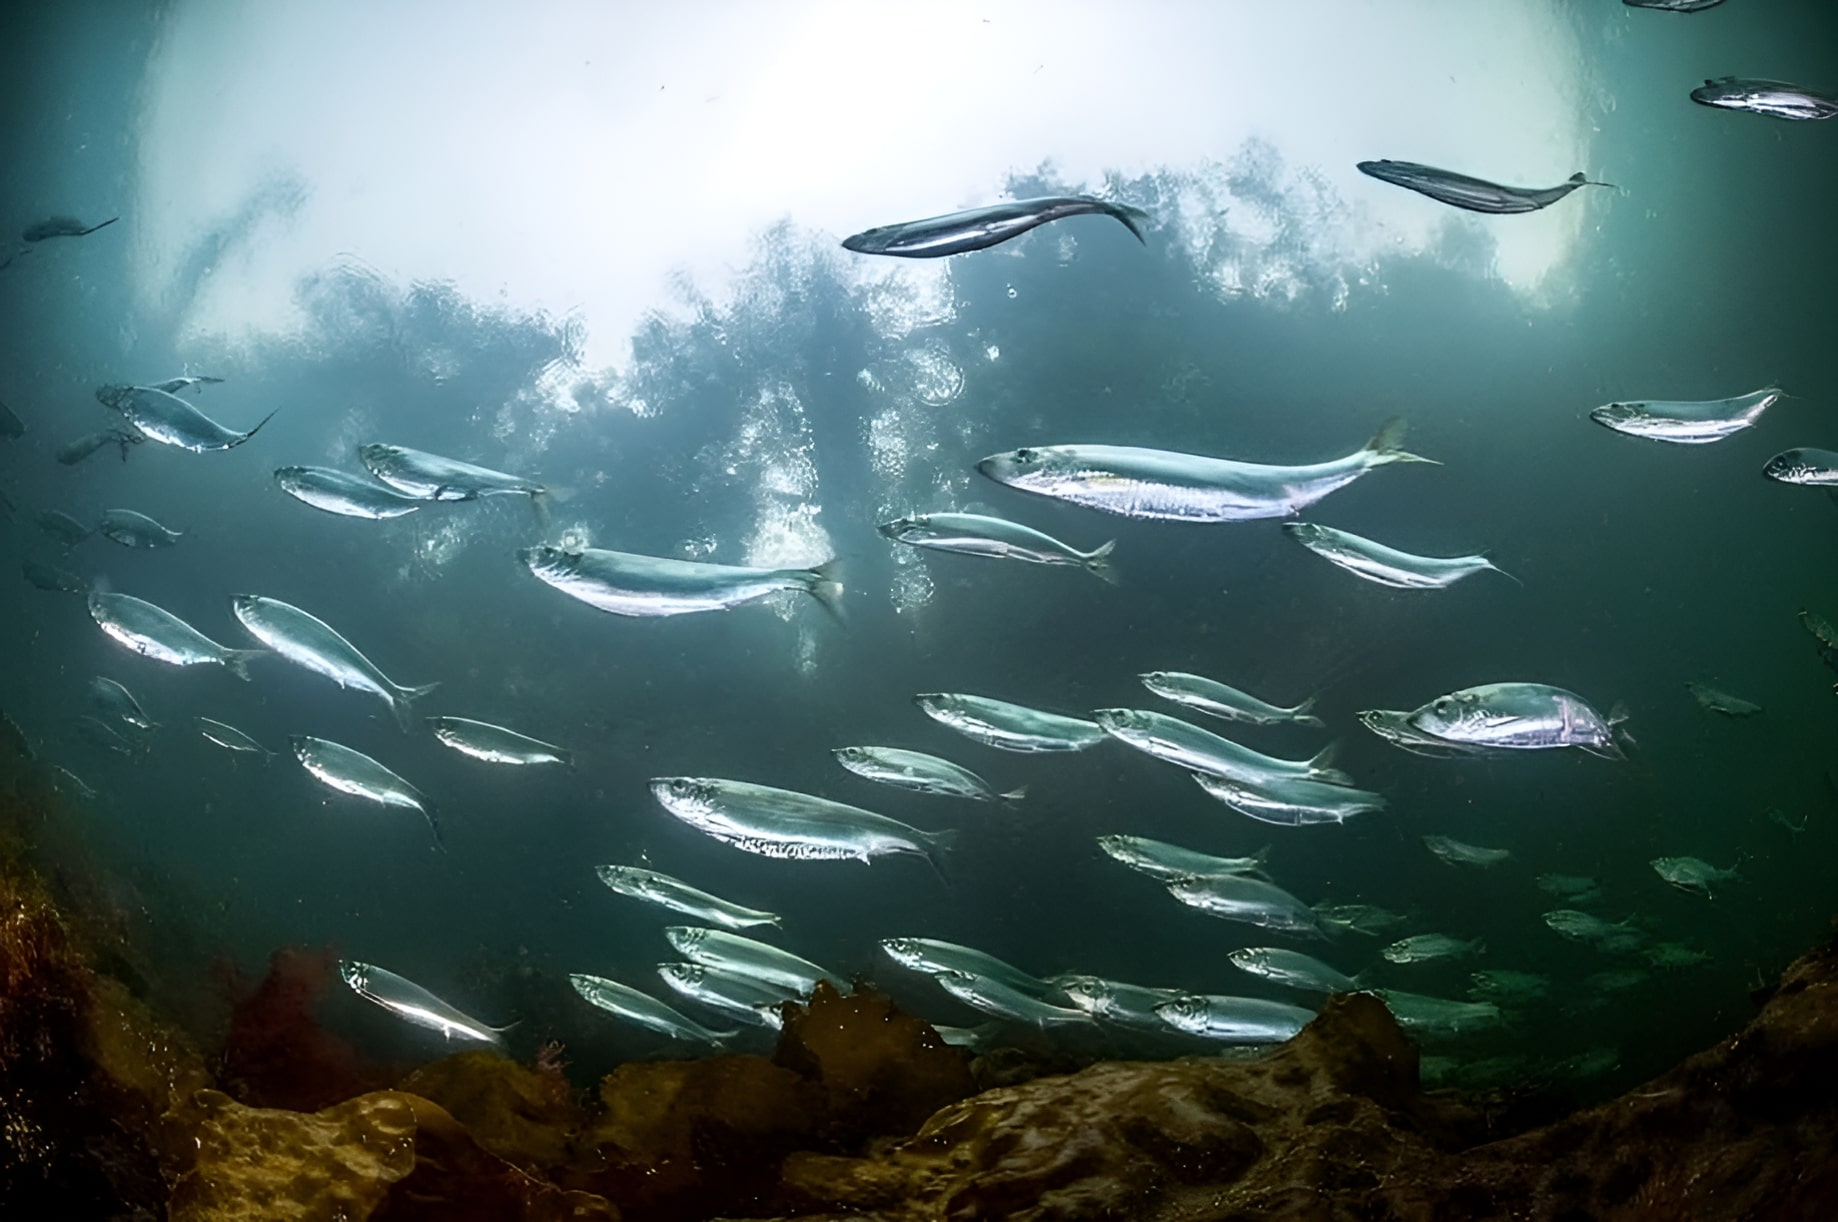Pecific herring: (969, 423, 1462, 535), (629, 762, 978, 880), (509, 528, 854, 629), (220, 586, 436, 732), (837, 188, 1156, 280), (1084, 701, 1340, 799), (1351, 142, 1623, 232), (1362, 674, 1655, 757), (1274, 503, 1508, 599), (329, 949, 513, 1069), (648, 918, 867, 1017), (86, 567, 256, 694), (873, 505, 1136, 582), (581, 852, 794, 947), (350, 427, 562, 517), (564, 957, 744, 1060), (1148, 869, 1404, 938), (905, 685, 1115, 769), (85, 371, 275, 464), (824, 736, 1040, 817), (1579, 376, 1801, 451), (251, 447, 431, 539), (290, 724, 445, 825), (1184, 764, 1389, 835), (1155, 989, 1354, 1058), (645, 953, 806, 1032), (402, 708, 577, 779), (1136, 666, 1320, 732), (1681, 64, 1838, 136), (1084, 824, 1276, 882), (918, 974, 1104, 1028), (875, 929, 1020, 987), (1376, 972, 1497, 1032), (1069, 968, 1184, 1028), (1216, 940, 1355, 987), (1, 203, 124, 250), (1537, 904, 1655, 951), (1413, 826, 1518, 878), (1763, 436, 1838, 503), (91, 503, 190, 552), (1638, 852, 1734, 896), (1674, 682, 1764, 717)
